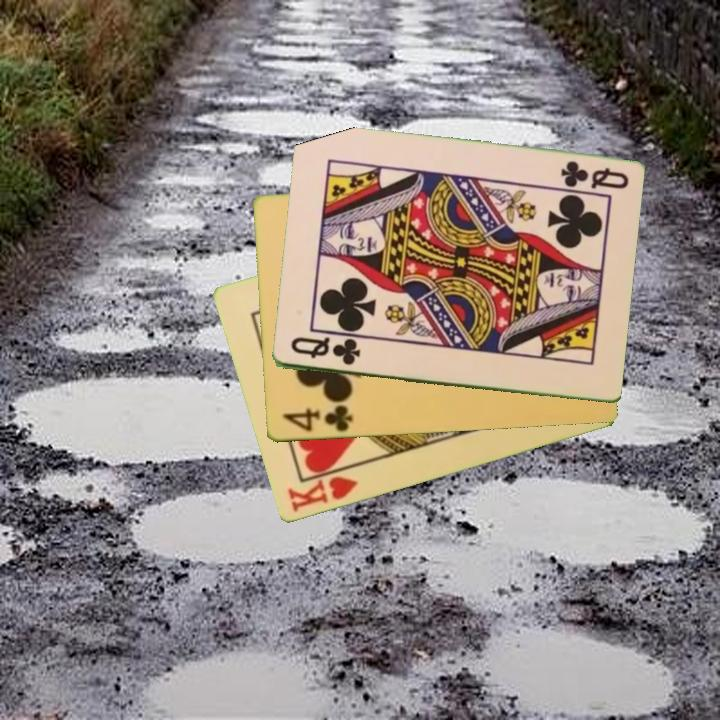4c: (279, 402, 355, 435)
Kh: (284, 462, 362, 516)
Qc: (286, 333, 363, 369), (557, 158, 632, 193)
